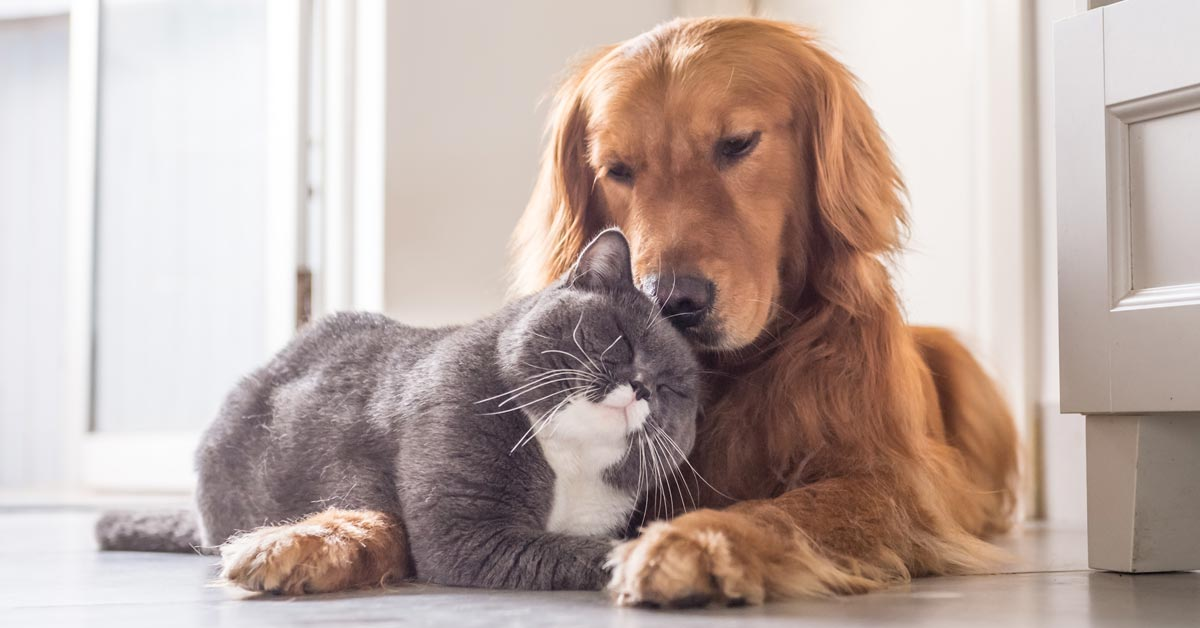pet: (569, 52, 1025, 587)
